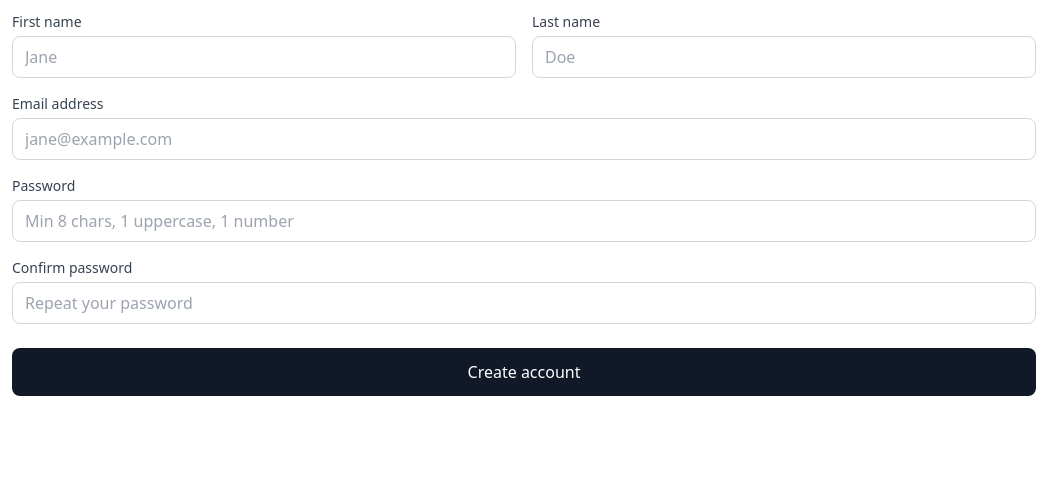
Test: RegisterForm › shows inline error for invalid email format
In the field labelled "Email address": [524, 139] box top-left (12, 118), bottom-right (1036, 160), type "not-an-email"
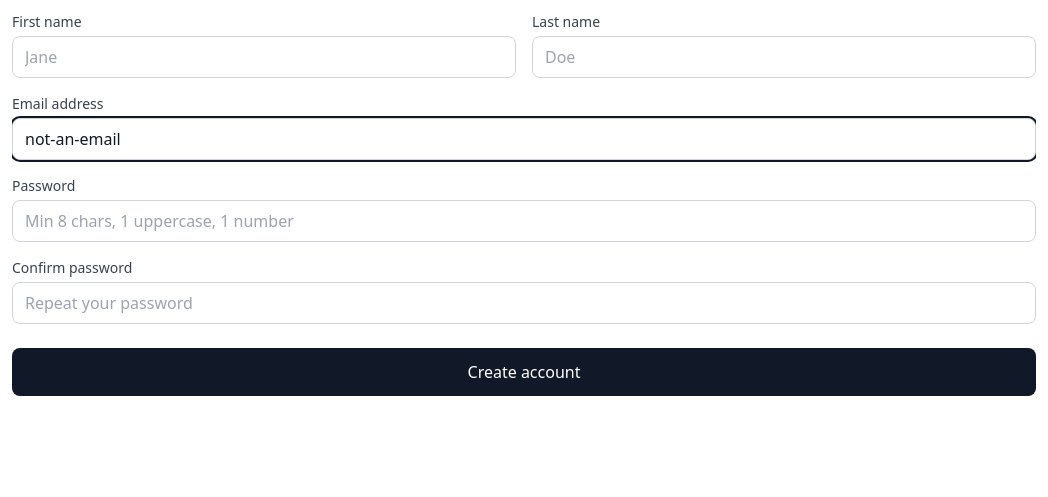
Click the button "Create account": [524, 372] box top-left (12, 348), bottom-right (1036, 396)
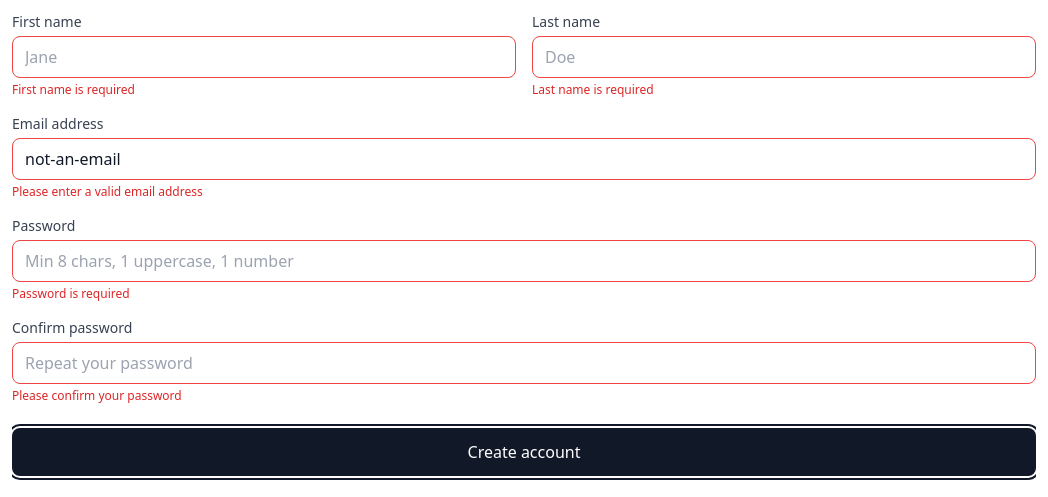
Result: the text "Please enter a valid email address" is shown at top-left (12, 183), bottom-right (203, 200)
